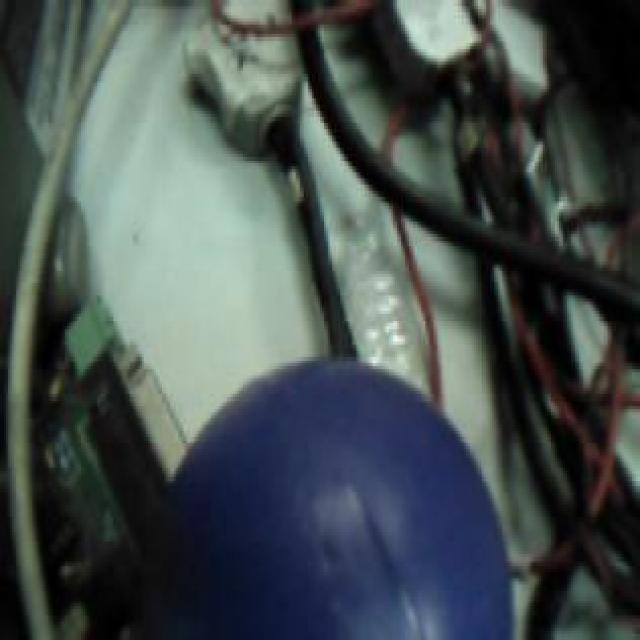BallPurple: (151, 357, 515, 640)
